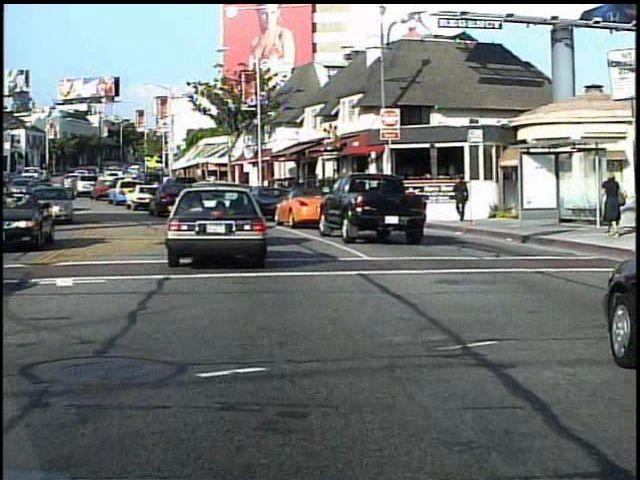person: (595, 166, 624, 239), (450, 178, 467, 230)
